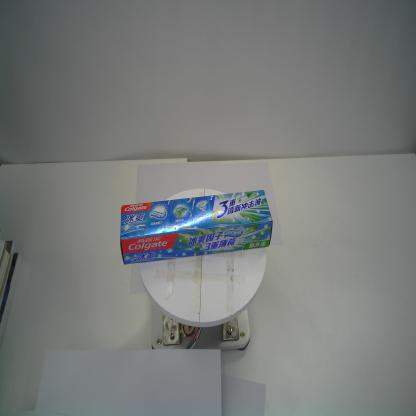Personal Hygiene: (118, 187, 272, 266)
